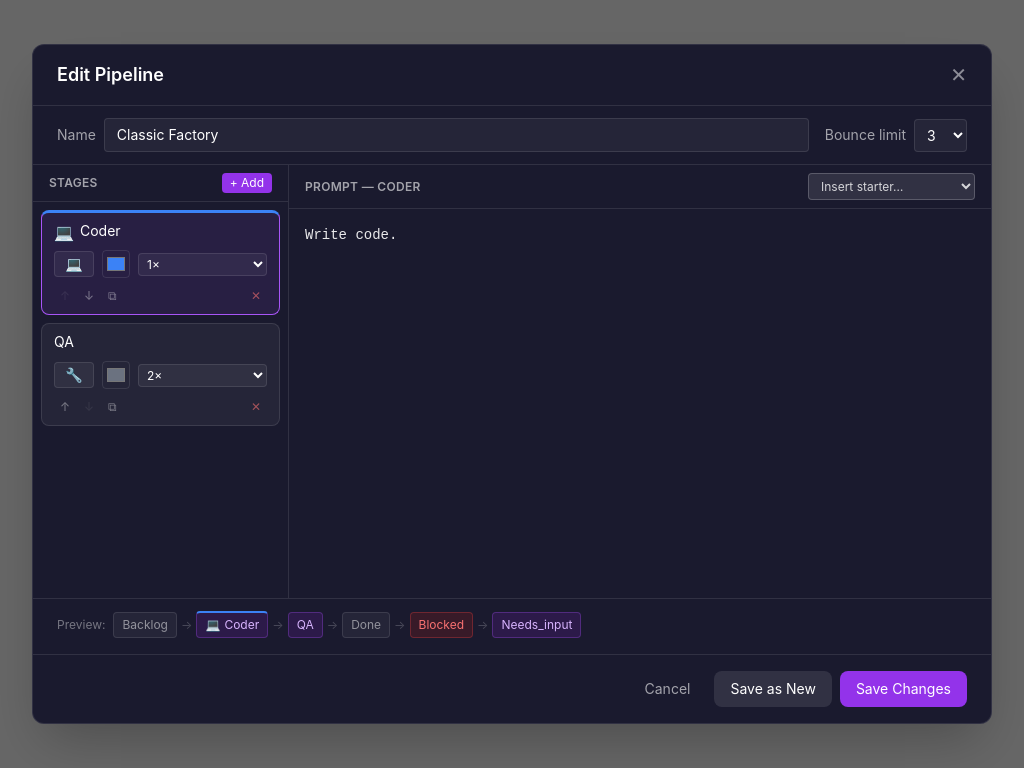
Test: prompt editor › switches prompt when a different stage is selected
Click the button named "stage:": (160,374) top-left (41, 323), bottom-right (280, 426)
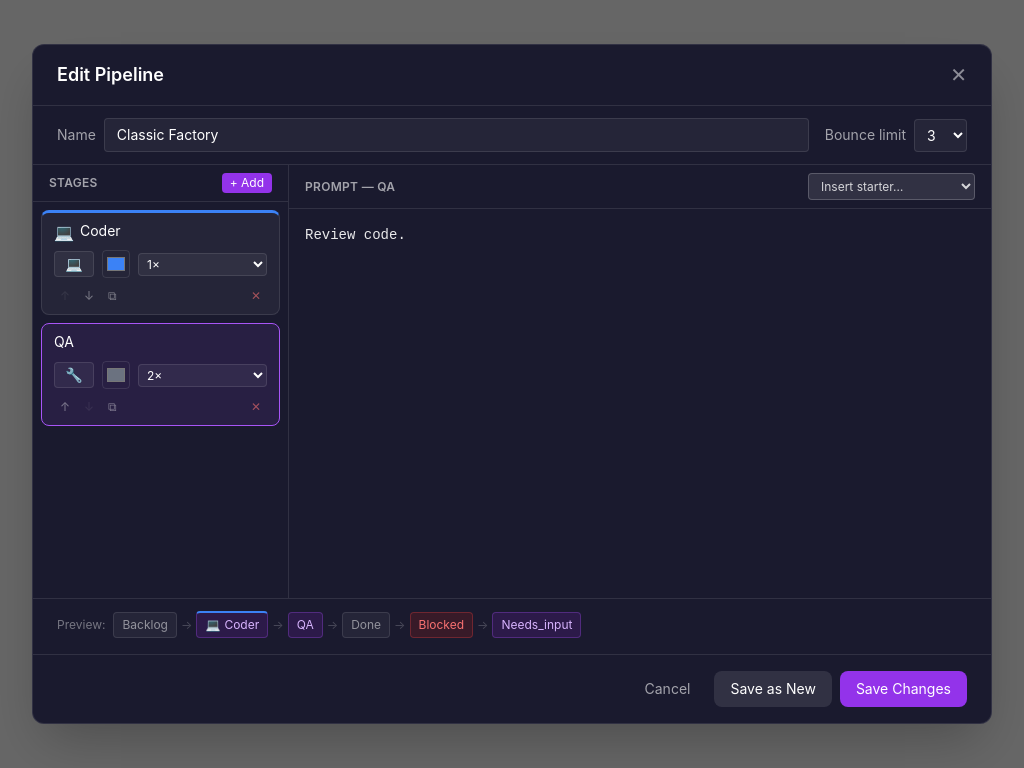
expect the text box named "agent prompt" holds "Review code.": met, box top-left (289, 209), bottom-right (991, 598)
